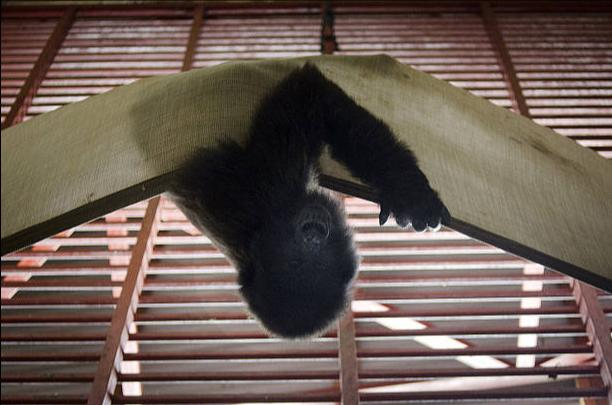goriile_montagne: (170, 153, 414, 363)
